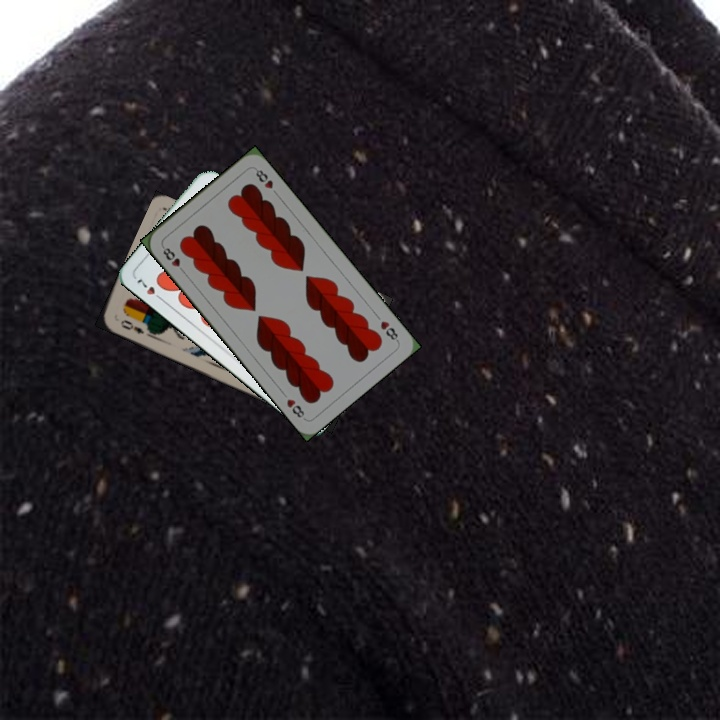EO: (116, 315, 147, 336)
H7: (132, 273, 166, 304)
H8: (158, 242, 188, 276), (376, 317, 401, 344)
